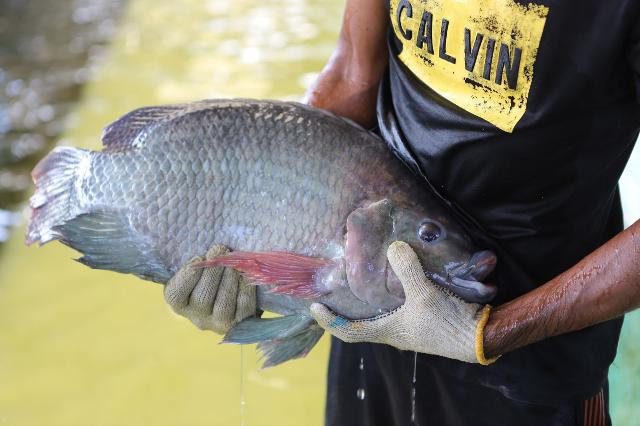Mulut: (432, 232, 518, 328)
Sirip Anal: (52, 194, 186, 310)
Sirip Dada: (183, 233, 344, 308)
Sirip Ekor: (13, 132, 102, 262)
Sirip Perut: (210, 305, 334, 381)
Sirip Punggung: (94, 87, 346, 179)
